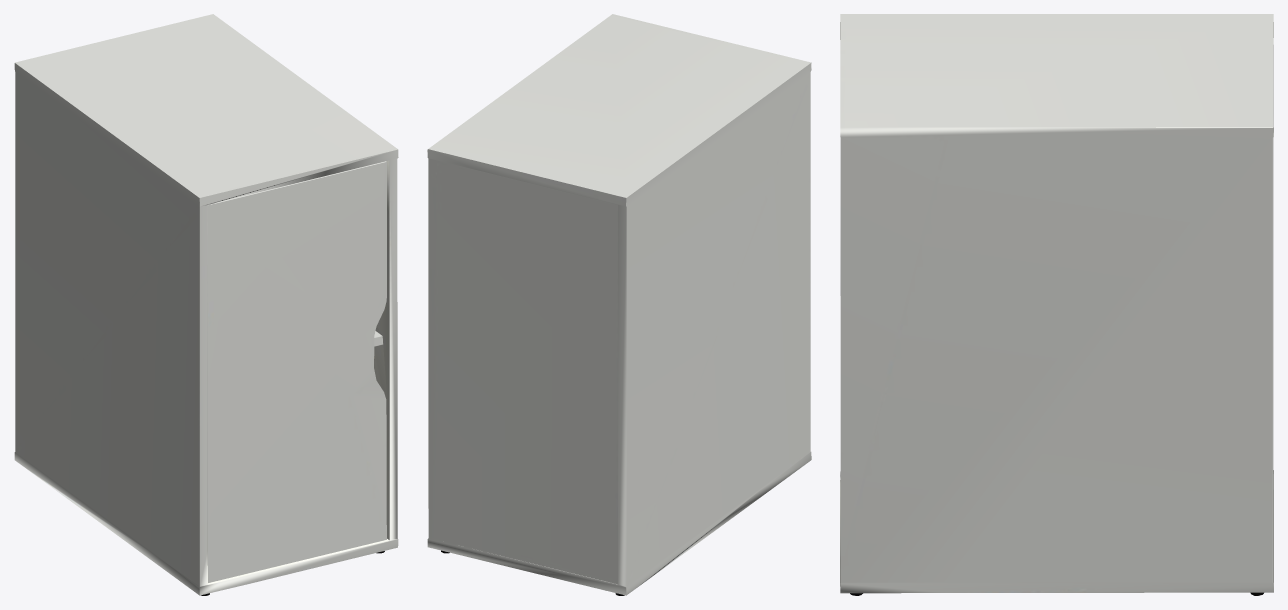
Rendered from ALEX_50563752.glb.
The picture shows the model from 3 angles, left to right: view 1: azimuth 30°, elevation 25°; view 2: azimuth 150°, elevation 25°; view 3: azimuth 270°, elevation 25°; orthographic projection. The views are drawn at different scales.
Visible parts, largest first — view 1: model; view 2: model; view 3: model.
Boxes of the visible parts, left/top/right/bottom form: model: left=14, top=14, right=398, bottom=595; model: left=427, top=14, right=811, bottom=595; model: left=840, top=14, right=1273, bottom=595.
Size of the model in its own units: 0.3615 by 0.701 by 0.5826.
2 materials, 2 textured.
